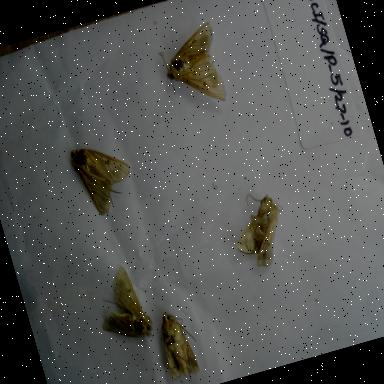abw: (150, 13, 244, 118), (220, 180, 302, 282), (57, 131, 144, 227), (82, 258, 159, 354), (148, 301, 210, 384)
